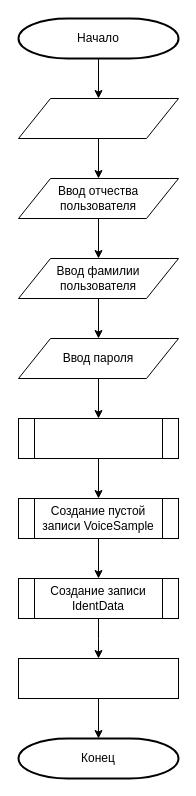
Image size: 196x796. Some labels were removed from this diagram. Here are the shapes that lost their labels. From the top down, the centre of each, then its label:
At pixel 98 118: "Ввод имени пользователя".
At pixel 98 438: "Создание записи пароля".
At pixel 98 678: "Возврат ID пользователя".
